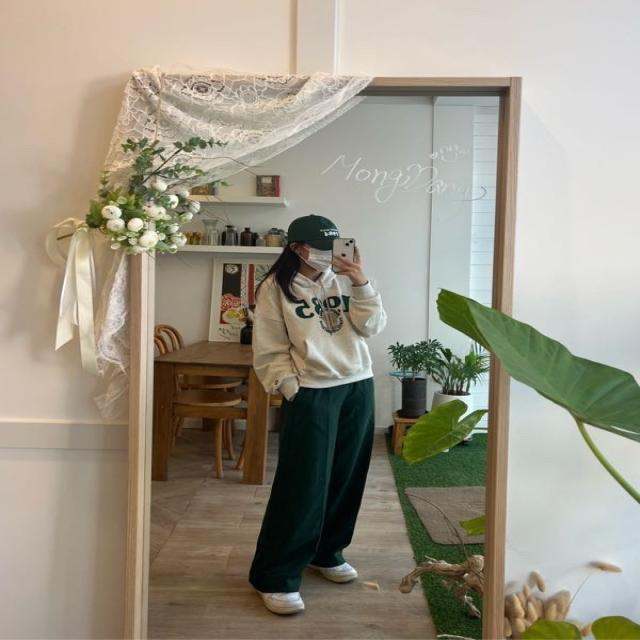cottonpants: (246, 374, 374, 592)
mtm: (257, 263, 393, 398)
